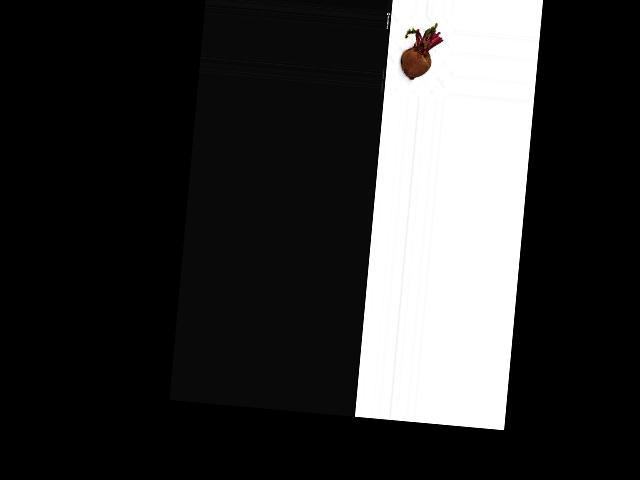beet: (398, 20, 444, 82)
